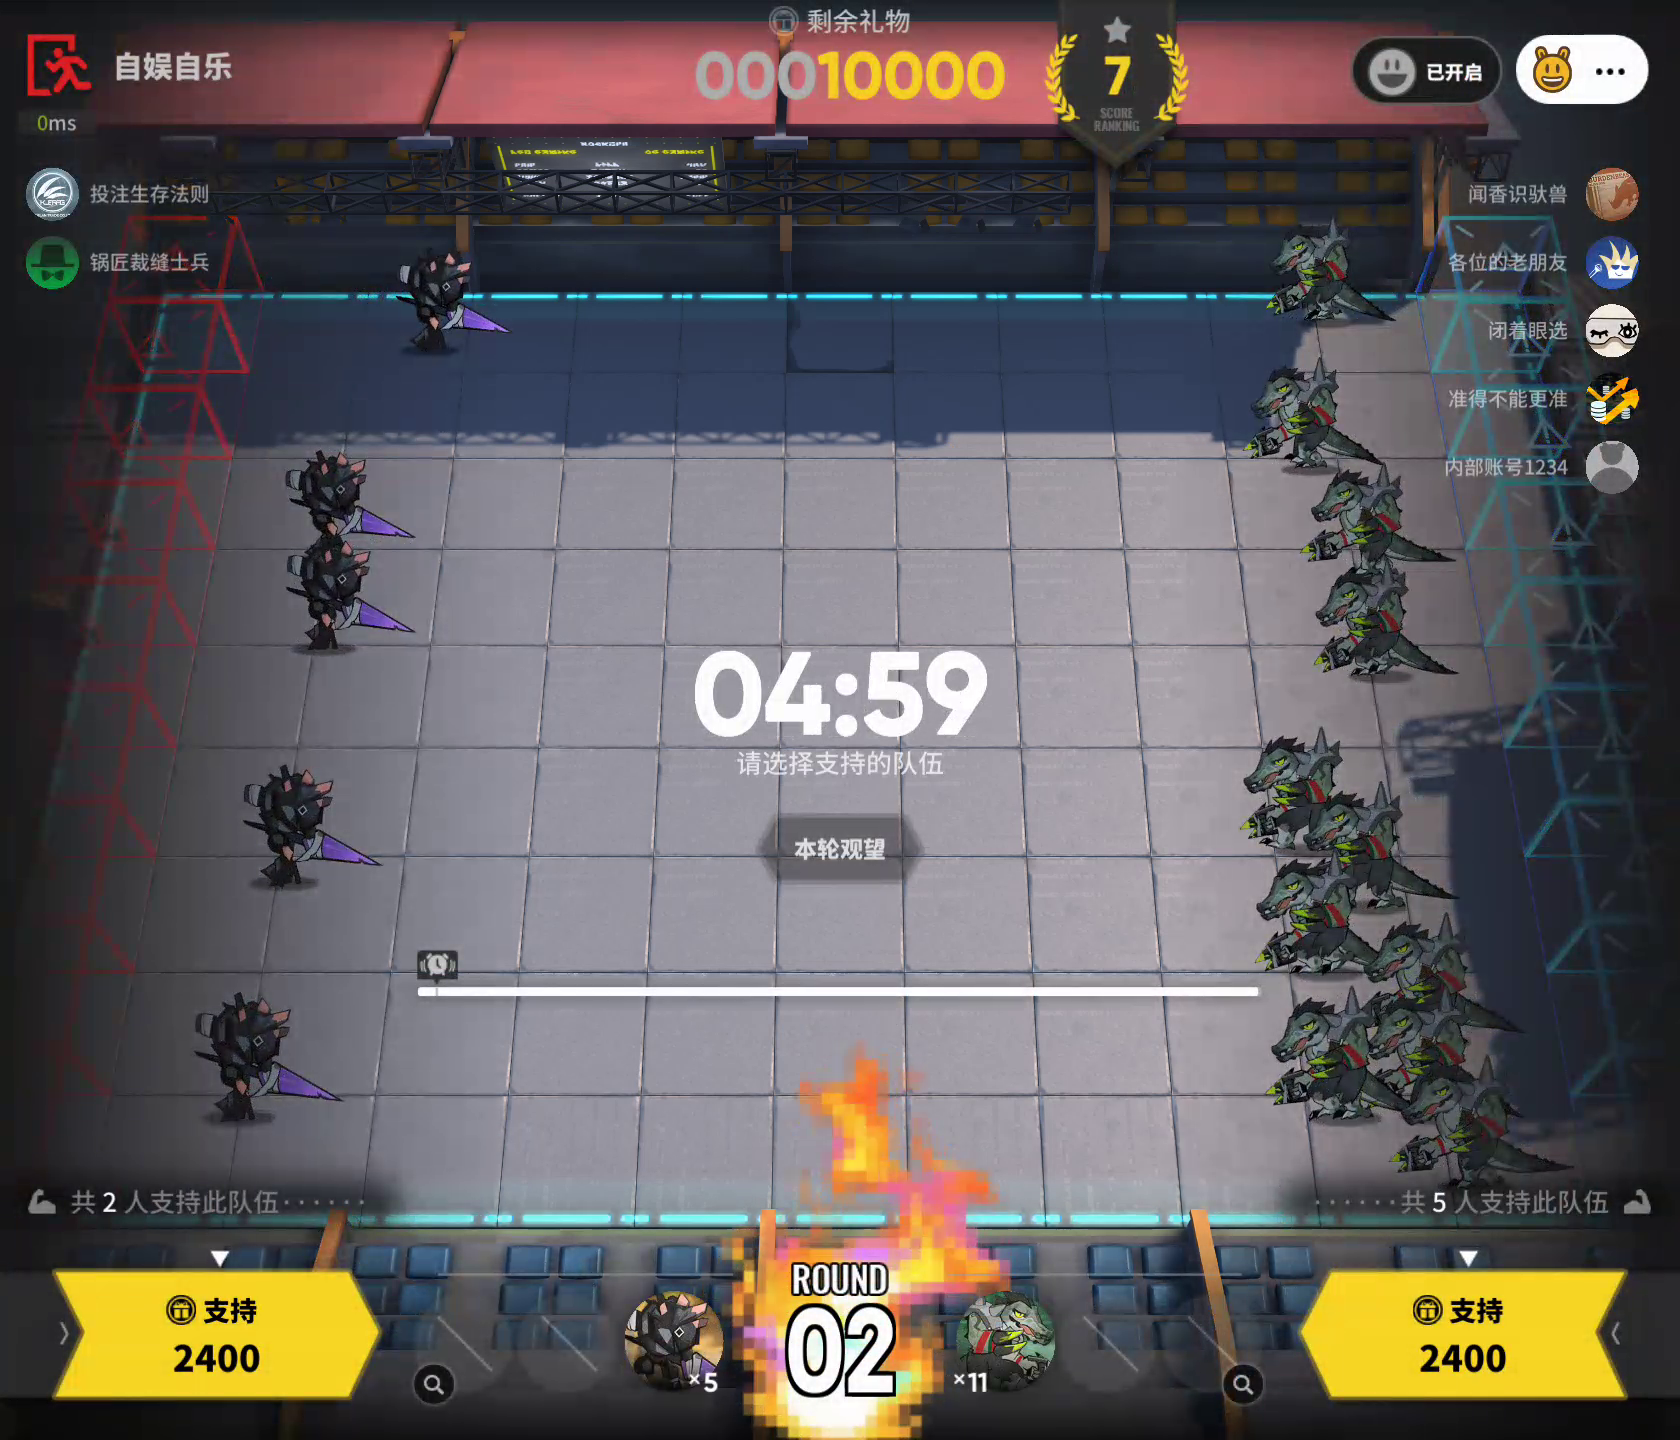畸变之矛: (174, 981, 350, 1129), (241, 751, 386, 899), (271, 519, 421, 651), (380, 234, 514, 360), (283, 440, 421, 559), (617, 1281, 730, 1399)
窃笑鳄鱼: (1386, 1050, 1589, 1186), (1294, 781, 1471, 920), (1337, 970, 1514, 1106), (1243, 846, 1421, 974), (1261, 987, 1403, 1131), (1367, 914, 1534, 1036), (1301, 456, 1466, 577), (1311, 556, 1469, 681), (1239, 721, 1383, 851), (1261, 213, 1401, 334), (1240, 354, 1384, 471), (950, 1283, 1057, 1396)
